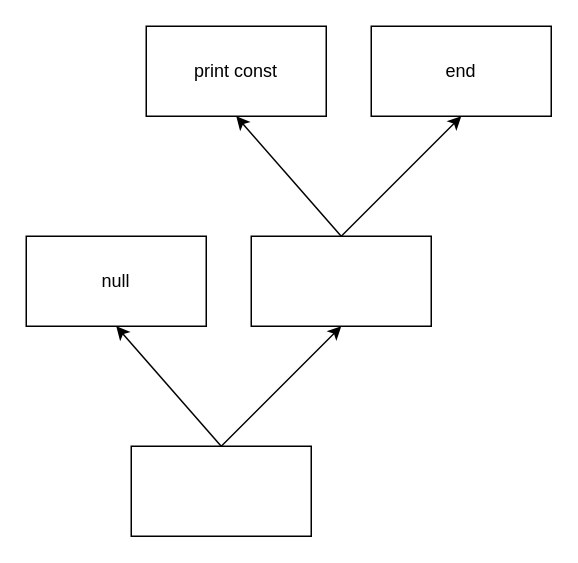
This 578x563 diagram has some shape labels left out. The box of each missing label's shape, as (x1, y1, x2, y2) in pixels:
data const = 1: (130, 445, 311, 536)
if const == 1: (250, 235, 431, 326)
